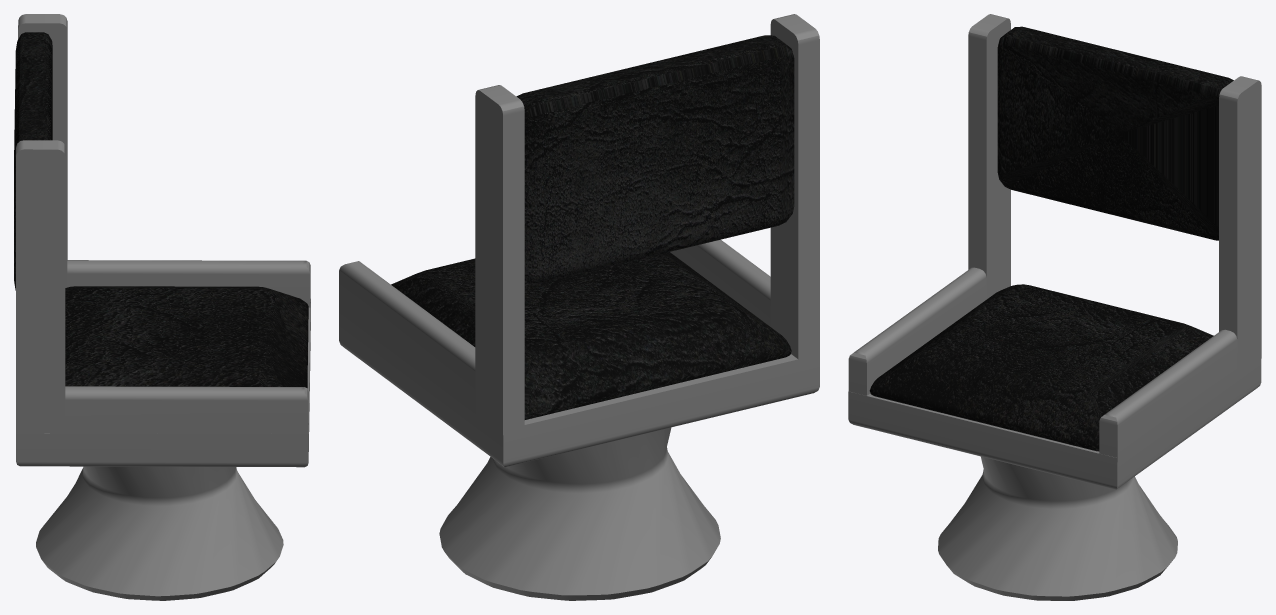
File: Chair1.fbx
3 renders of one model, left to right at view 1: azimuth 30°, elevation 25°; view 2: azimuth 150°, elevation 25°; view 3: azimuth 270°, elevation 25°, orthographic. The views are drawn at different scales.
Visible parts, largest first — view 1: polySurface15; view 2: polySurface15; view 3: polySurface15.
Boxes of the visible parts, box(x1,y1,x2,y2) form: polySurface15: box(14, 14, 310, 600); polySurface15: box(339, 14, 819, 600); polySurface15: box(848, 14, 1261, 600).
Bounding box in the file's own units: 1.99 × 2.48 × 2.04.
